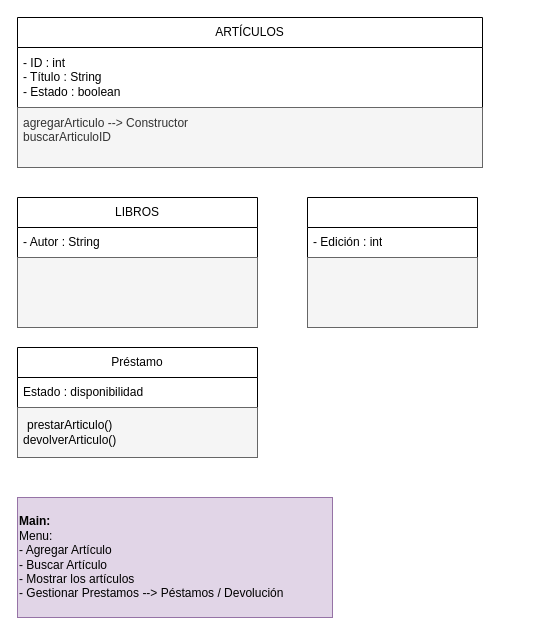
The diagram is 540 pixels wide and 635 high, and some of its shapes have lost their labels. Here are the shapes that lost their labels. From the top down, the box of each, then its label:
(306, 196, 478, 258): REVISTAS
(16, 256, 258, 328): mostrarLibros() -- mostrar Array de libros
(306, 256, 478, 328): mostrar Revista ()
